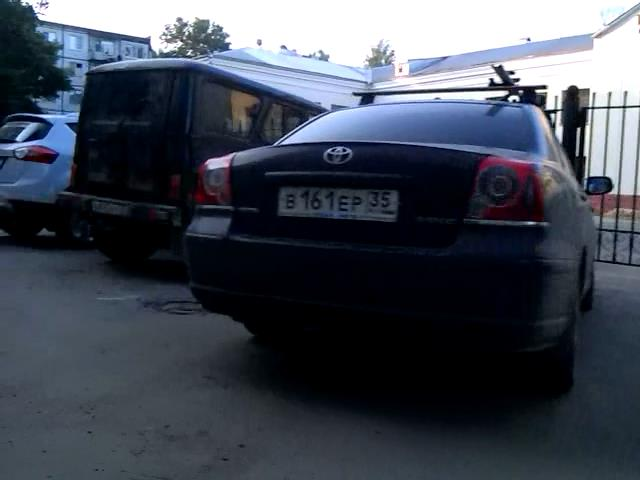car license plate: (275, 184, 399, 224), (90, 200, 133, 218)
